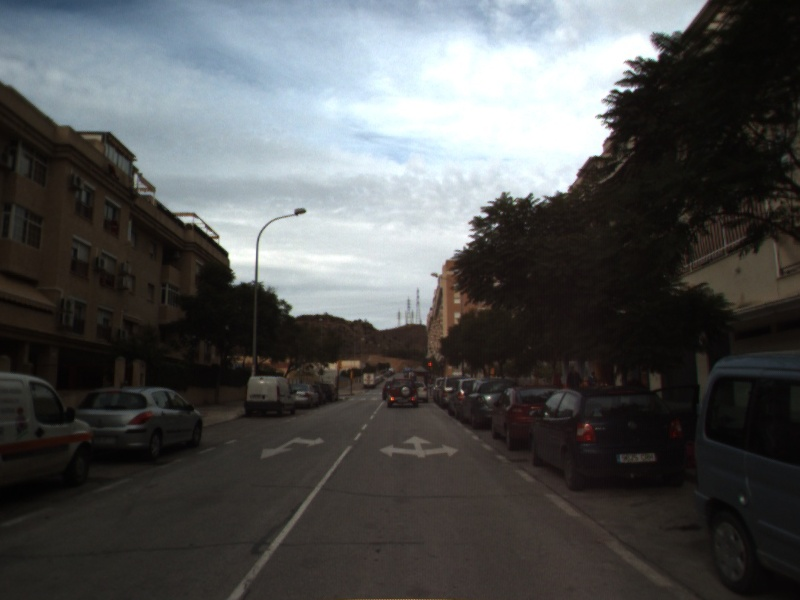STRAIGHT_LEFT_RIGHT: (377, 433, 461, 459)
